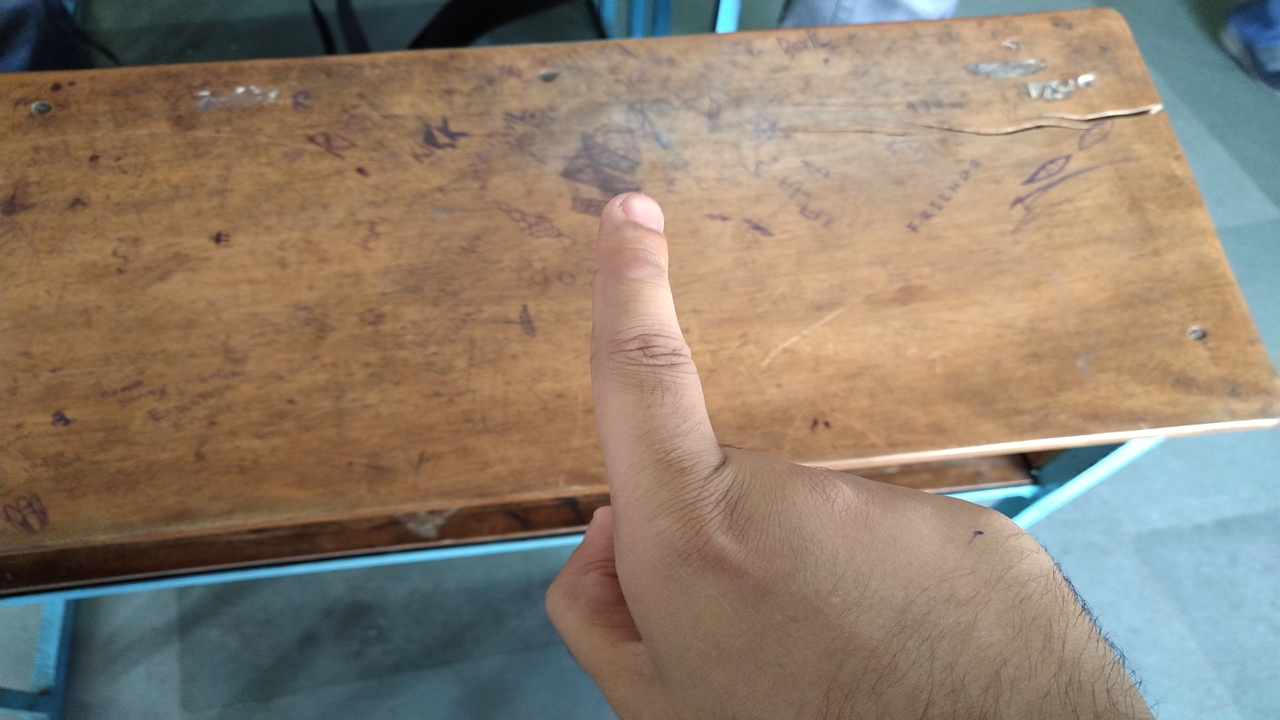fingertip: (596, 180, 674, 246)
